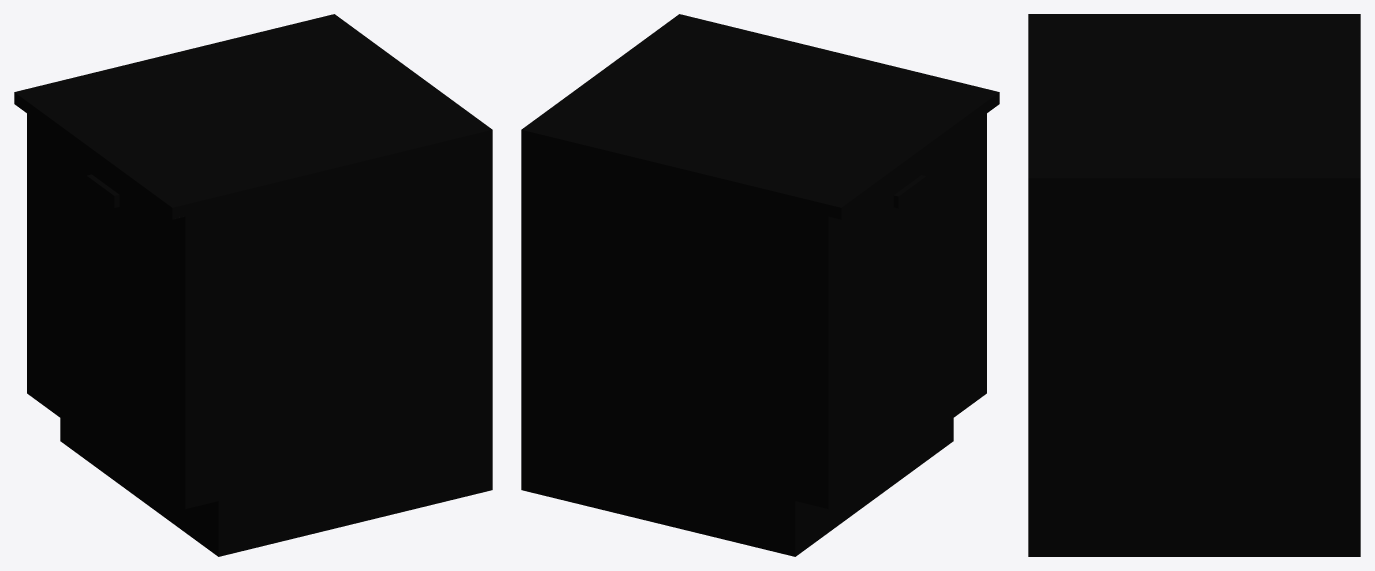
File: KitchenCupboardC.fbx
3 views of the same model, side by side, from view 1: azimuth 30°, elevation 25°; view 2: azimuth 150°, elevation 25°; view 3: azimuth 270°, elevation 25° (orthographic). The views are drawn at different scales.
Visible parts, largest first — view 1: node_id5; view 2: node_id5; view 3: node_id5.
Part boxes in pixels (box(x1,y1,x2,y2)): node_id5: box(14, 14, 492, 556); node_id5: box(521, 14, 999, 556); node_id5: box(1028, 14, 1360, 556).
Bounding box in the file's own units: 0.4762 × 0.512 × 0.4072.
1 material, 1 textured.
